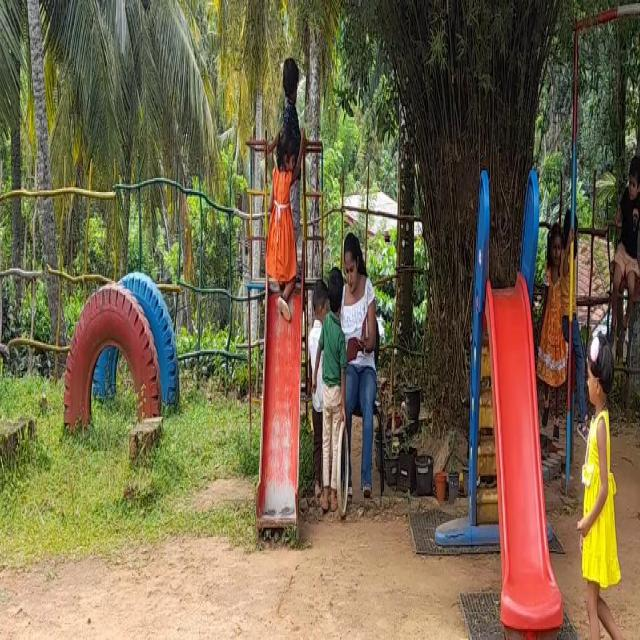adult: (338, 205, 390, 529)
child: (582, 349, 638, 640), (267, 117, 300, 311), (611, 130, 640, 316), (322, 255, 341, 500), (544, 220, 563, 420)
